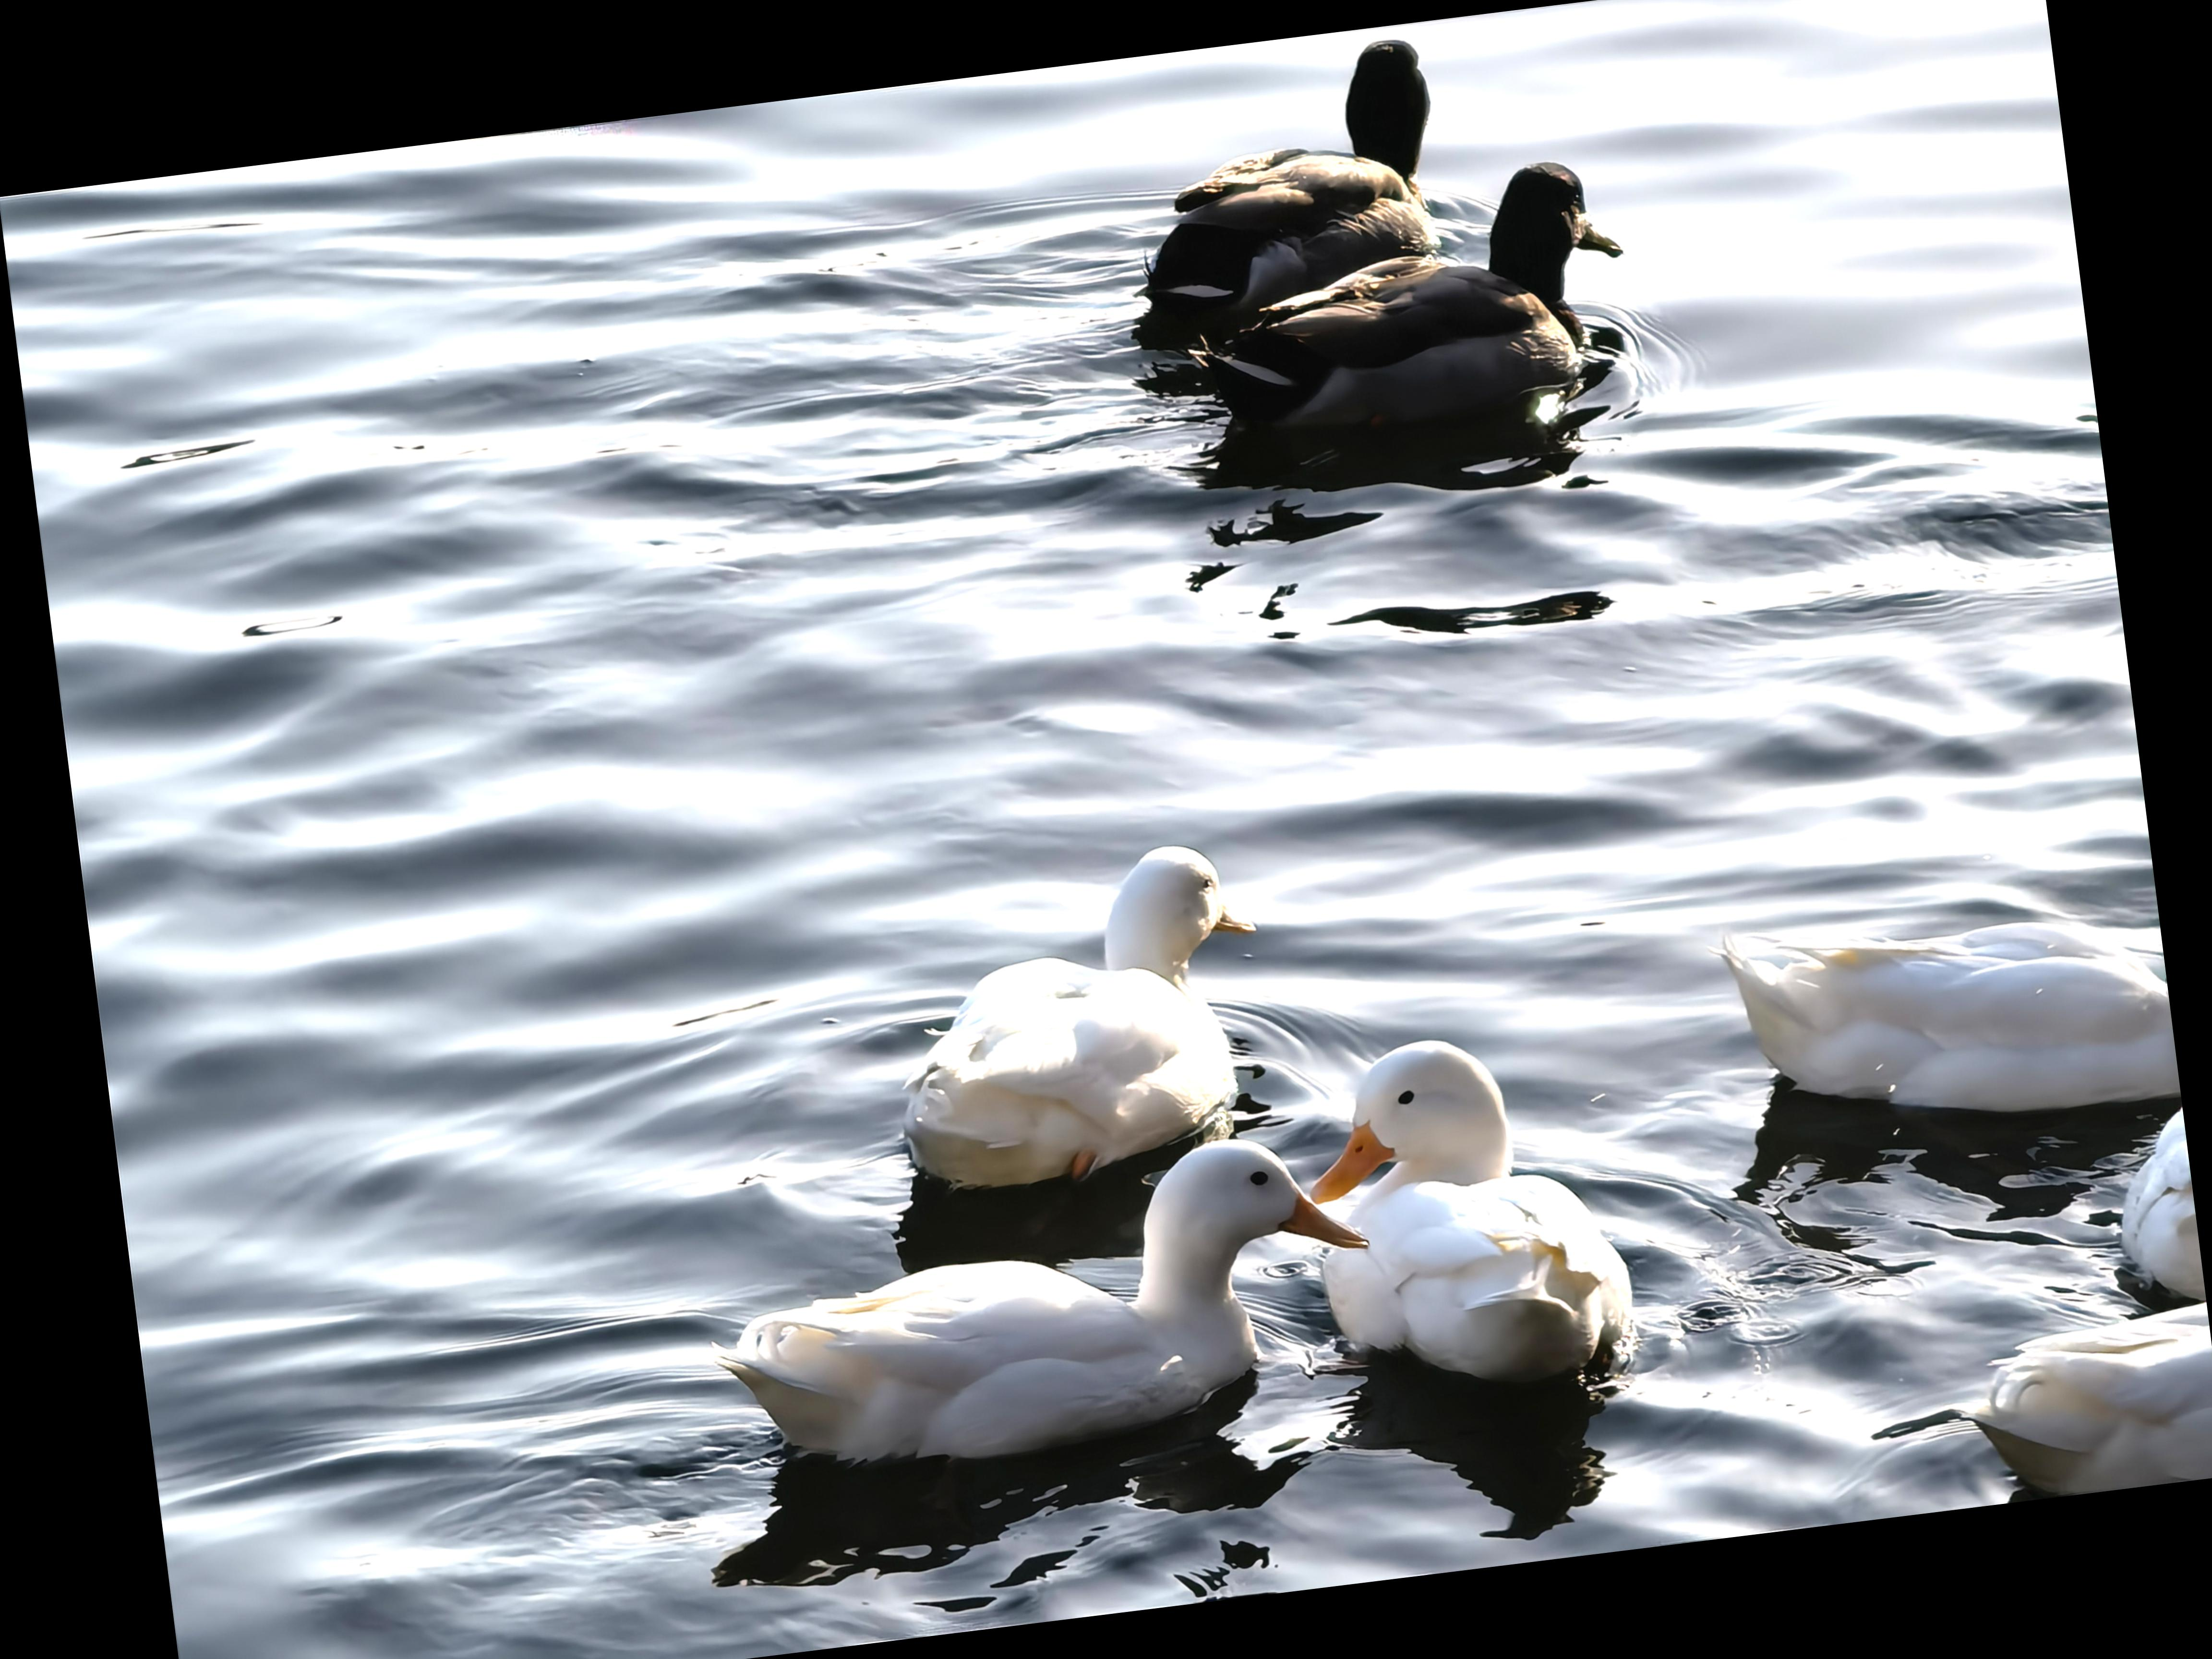duck: (643, 1112, 1392, 1539), (1134, 132, 1676, 526), (824, 798, 1334, 1213), (1695, 850, 2181, 1154), (1284, 992, 1637, 1401), (1094, 16, 1498, 328)
